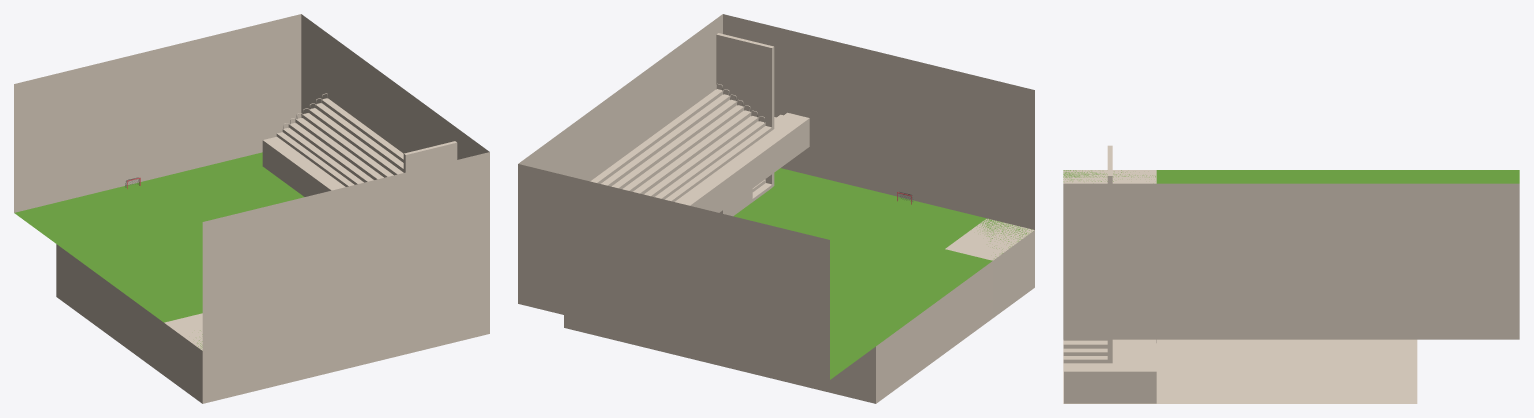
The model's file is gymnase_testfbx.fbx.
3 renders of one model, left to right at view 1: azimuth 30°, elevation 25°; view 2: azimuth 150°, elevation 25°; view 3: azimuth 270°, elevation 25°, orthographic. The views are drawn at different scales.
Parts seen in each view (by area): view 1: Escalier1; view 2: Escalier1; view 3: Escalier1.
Part boxes in pixels (box(x1,y1,x2,y2)): Escalier1: box(14, 14, 489, 403); Escalier1: box(518, 14, 1034, 403); Escalier1: box(1063, 145, 1519, 403).
Bounding box in the file's own units: 28350 × 17152 × 32224.
